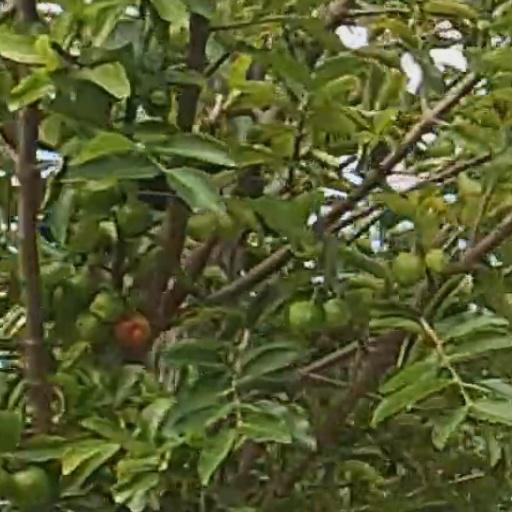acerola_verde: (8, 468, 59, 509), (394, 250, 424, 285)
acerola_vermelha: (123, 317, 151, 355)
